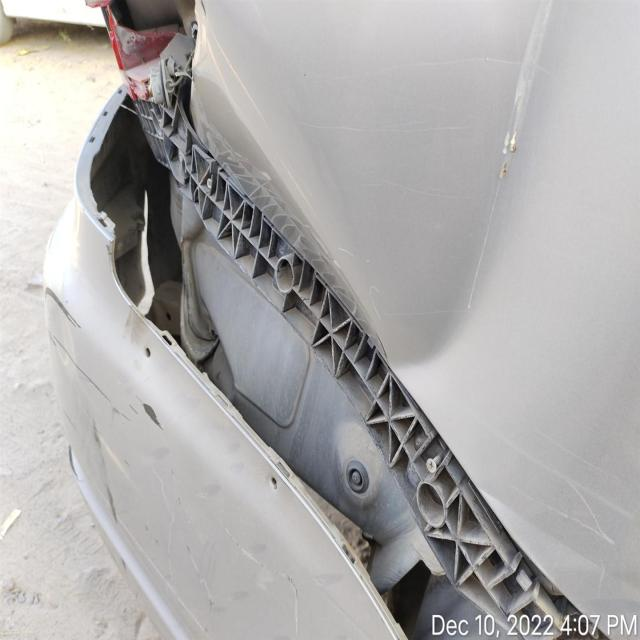damage: (84, 0, 619, 640), (385, 0, 552, 379), (45, 276, 171, 544)
